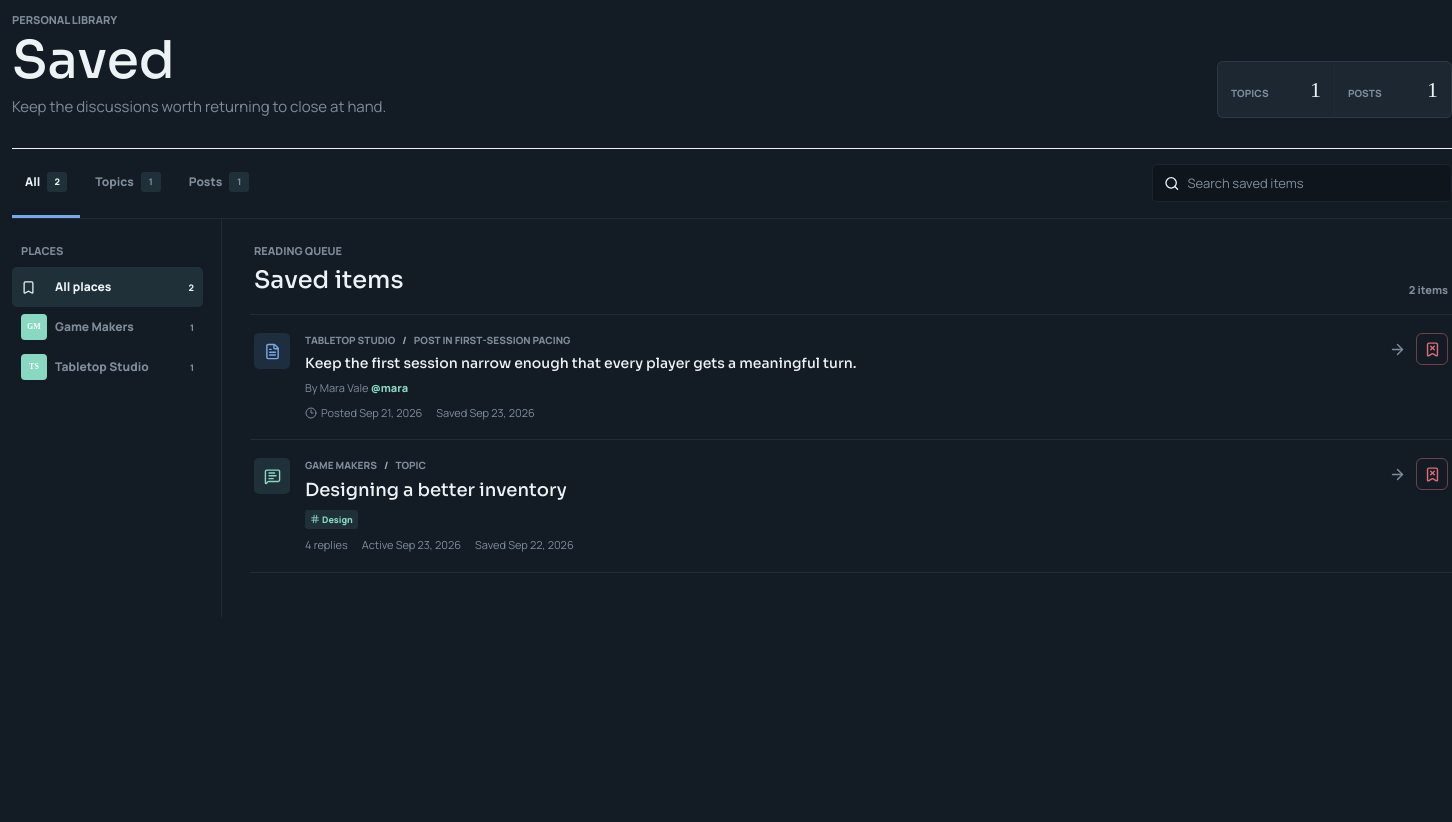
SavedLibrary › combines saved items and filters by type, search, and place
Expected: the heading "Designing a better inventory" is shown, top-left (305, 479), bottom-right (567, 501)
Expected: the heading "Keep the first session narrow" is shown, top-left (305, 354), bottom-right (856, 372)
Click the button "Topics 1". click: (128, 183)
box: top-left (82, 149), bottom-right (174, 218)
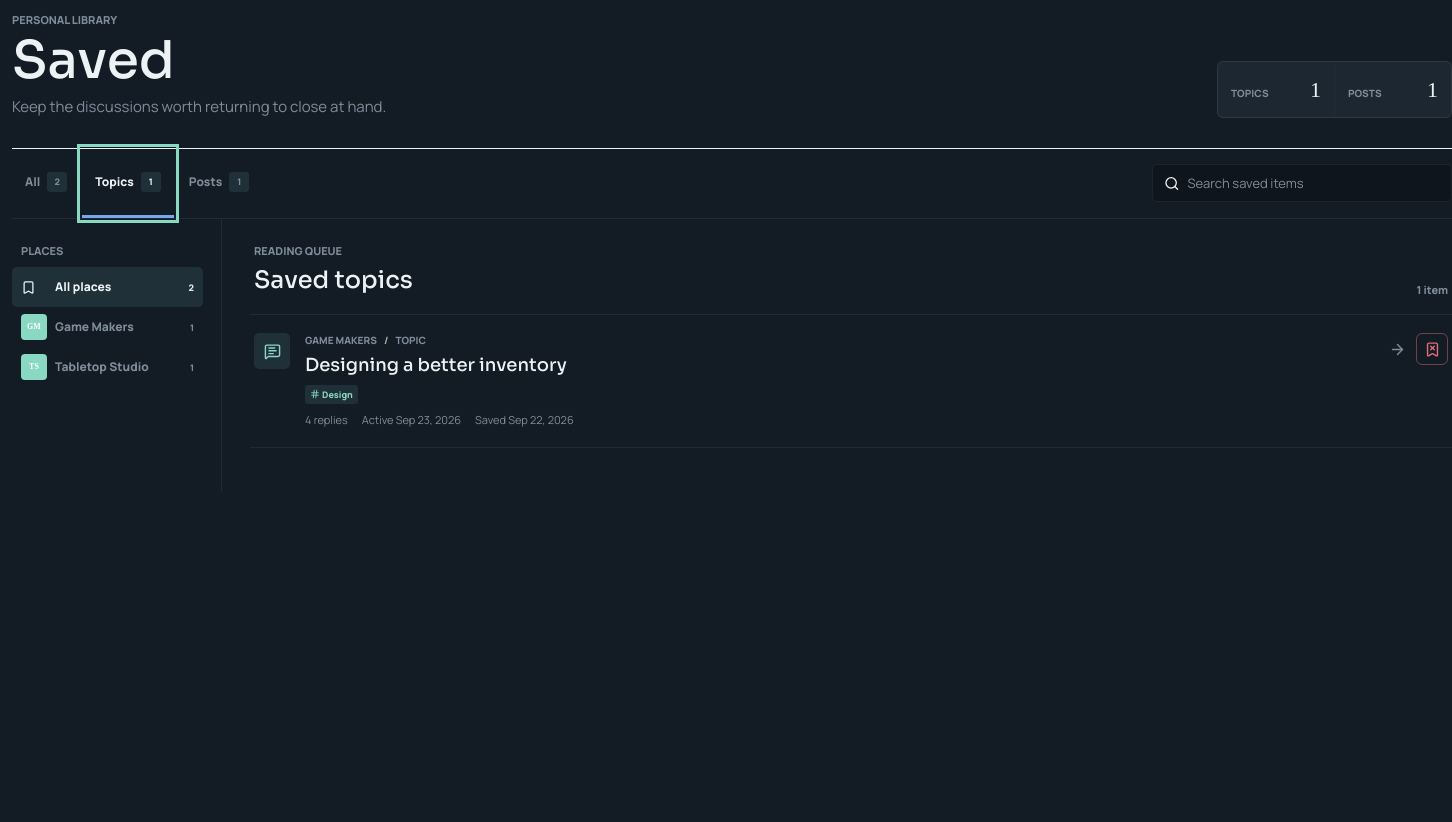
Expected: the heading "Designing a better inventory" is shown, top-left (305, 354), bottom-right (567, 376)
Expected: the link "Keep the first session narrow" is gone
Click the button "All 2". click: (46, 183)
box: top-left (12, 149), bottom-right (80, 218)
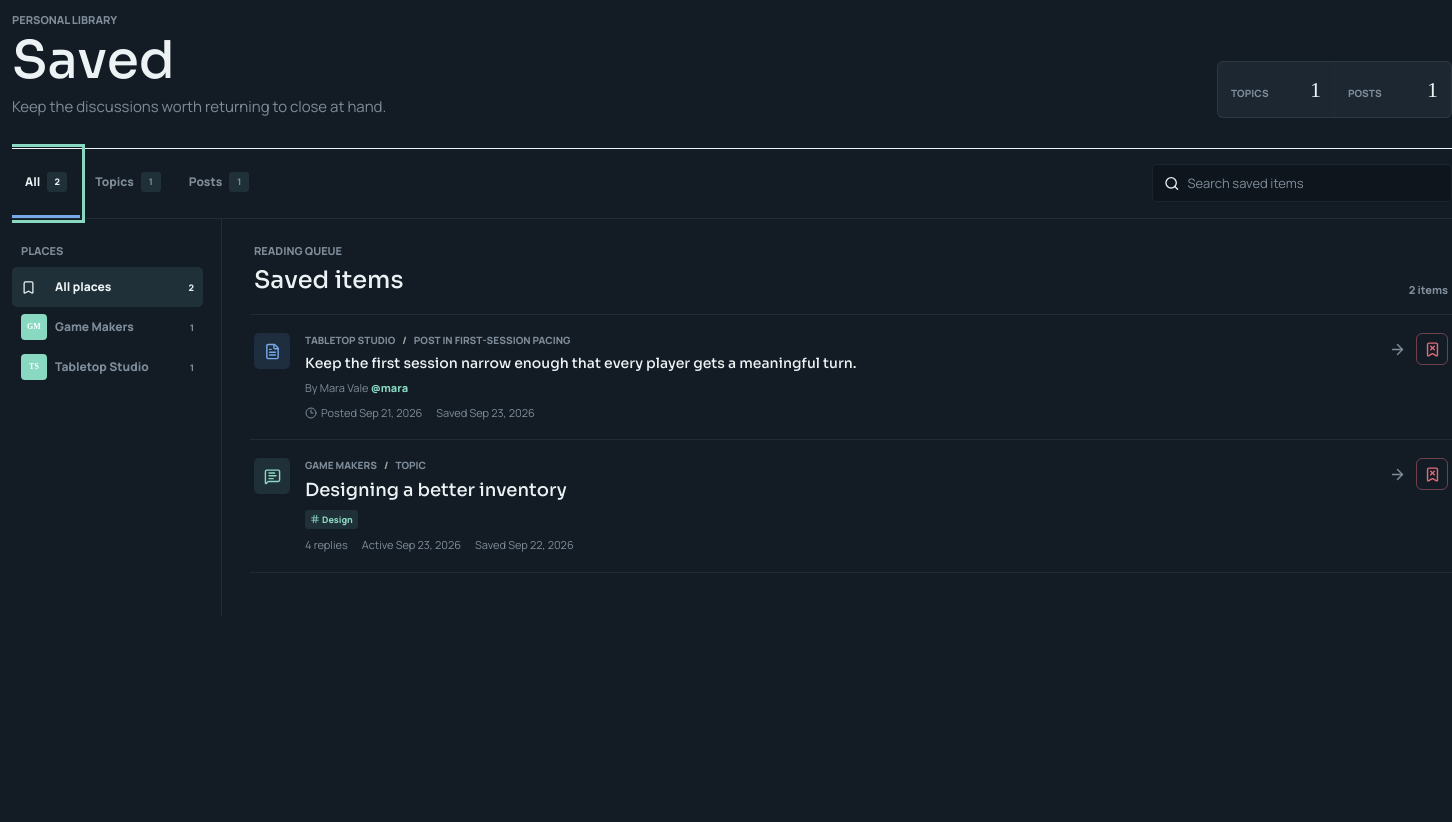
Type "mara" into the search field labelled "Search saved items". click: (1314, 183)
box: top-left (1188, 166), bottom-right (1440, 201)
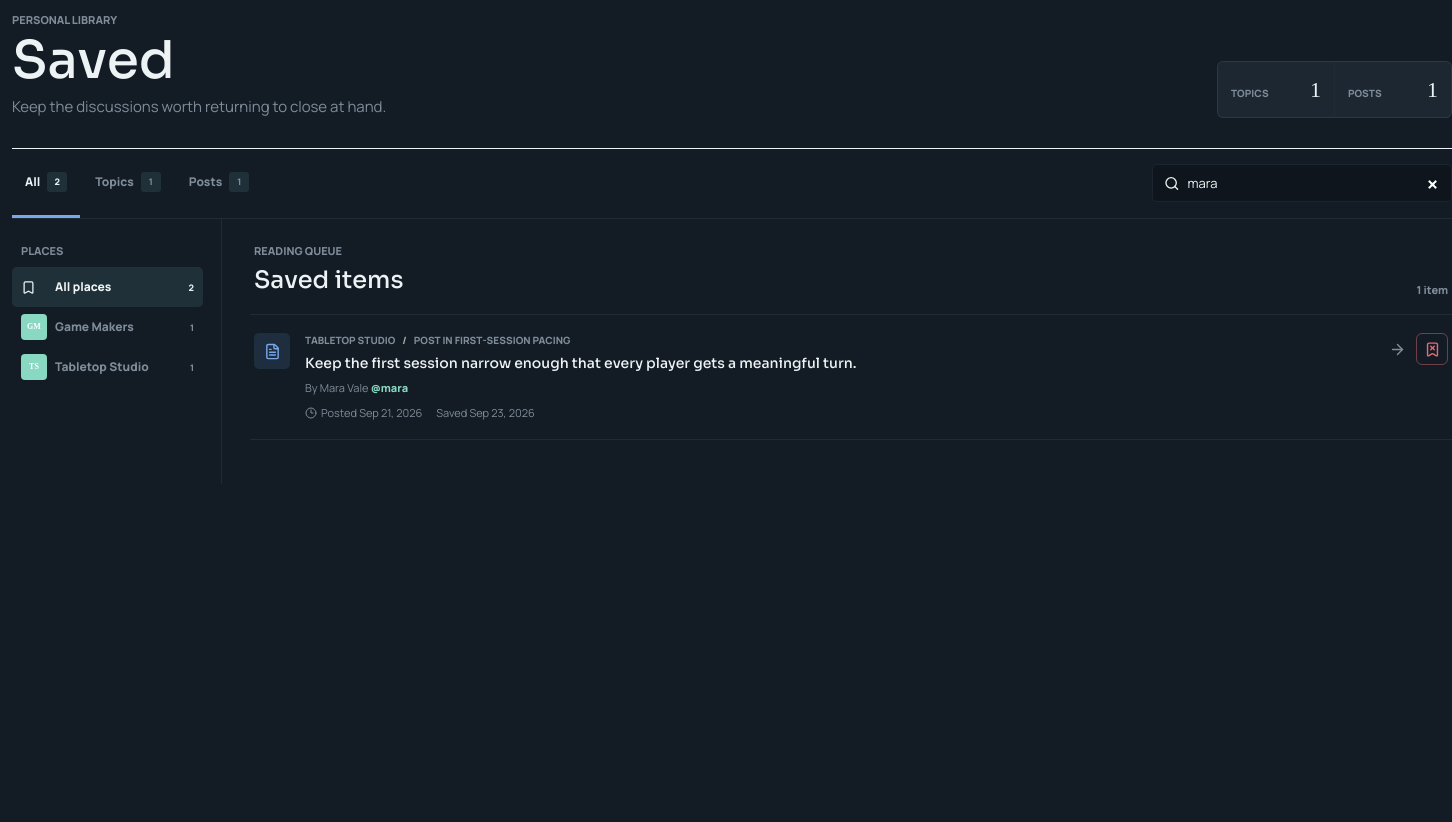
Expected: the heading "Keep the first session narrow" is shown, top-left (305, 354), bottom-right (856, 372)
Expected: the link "Designing a better inventory" is gone
Clear the search field named "Search saved items". click: (1314, 183)
box: top-left (1188, 166), bottom-right (1440, 201)
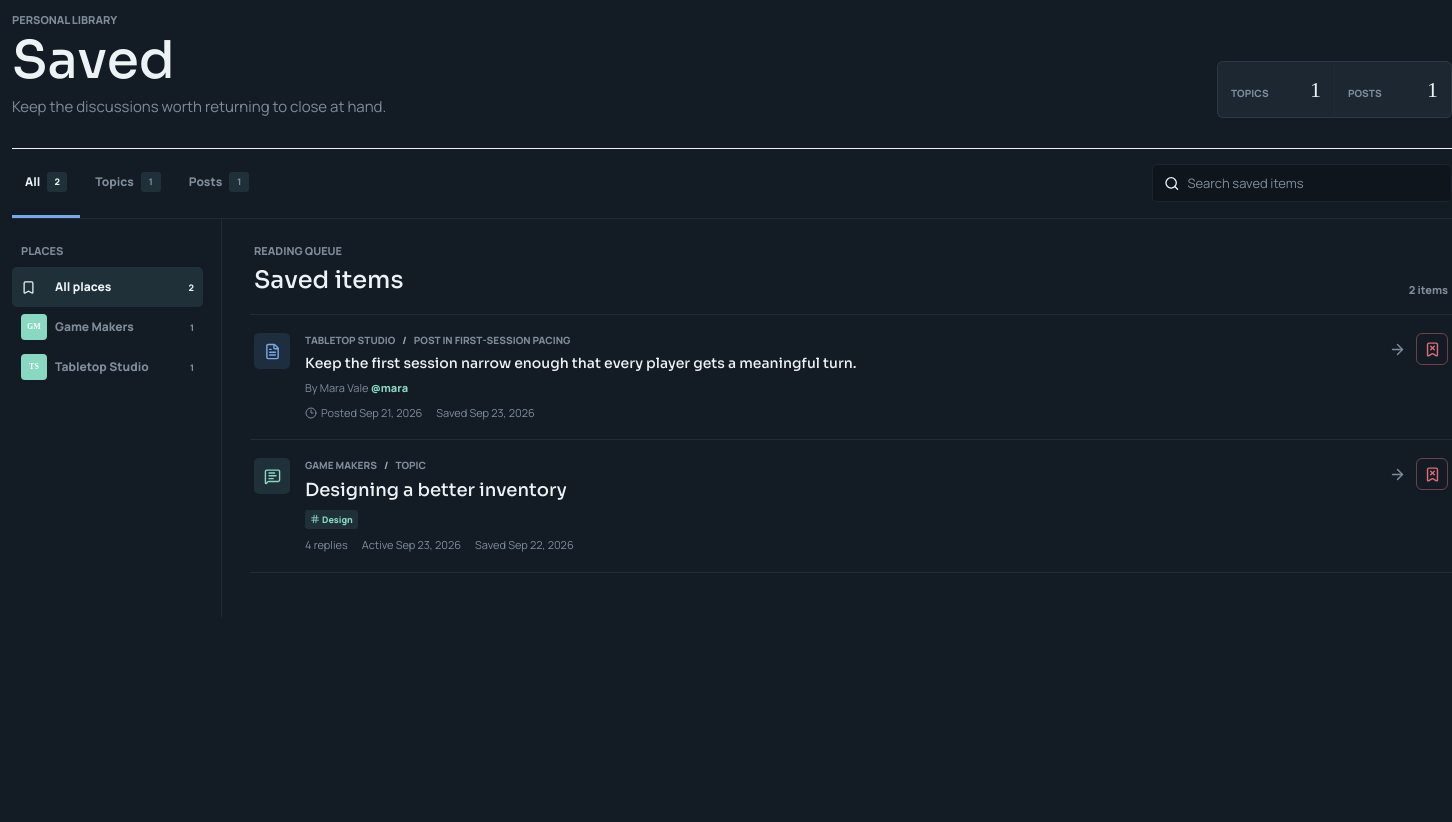
Click the button "GM Game Makers 1". click: (108, 327)
box: top-left (12, 307), bottom-right (203, 347)
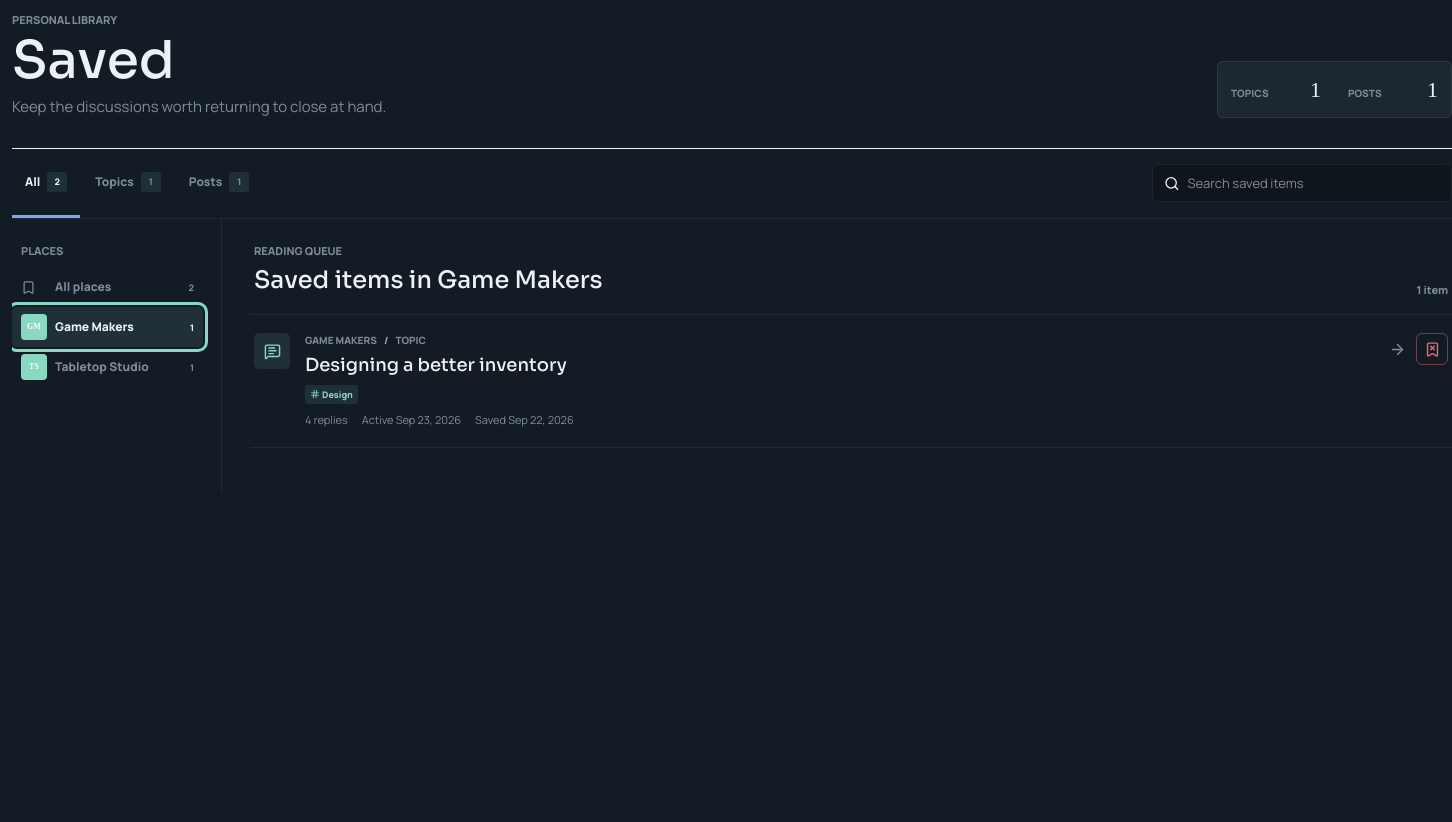
Expected: the heading "Designing a better inventory" is shown, top-left (305, 354), bottom-right (567, 376)
Expected: the link "Keep the first session narrow" is gone
